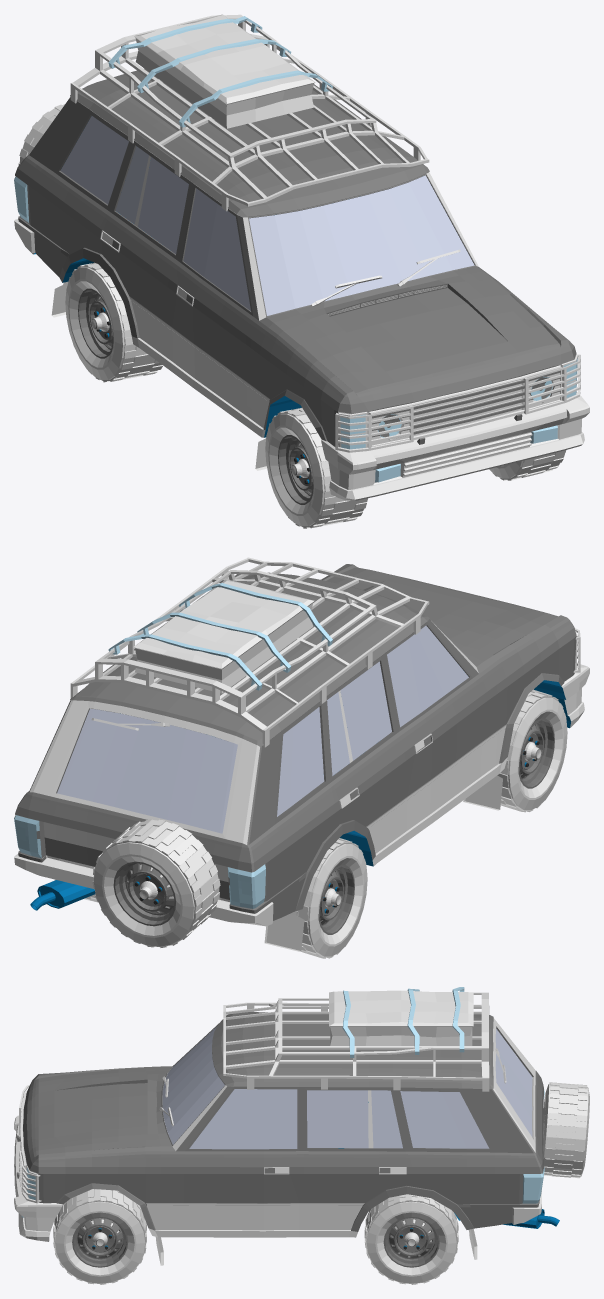
File: Range Rover.glb
The picture shows the model from 3 angles, top to bottom: view 1: azimuth 30°, elevation 25°; view 2: azimuth 150°, elevation 25°; view 3: azimuth 270°, elevation 25°; orthographic projection. The views are drawn at different scales.
Visible parts, largest first — view 1: Car.002, Bag, Car, Tire3, Tire4, Car.003, Car.001, Tire1, Spare Tire; view 2: Car.002, Bag, Car, Spare Tire, Tire3, Tire4, Car.010, Car.012, Car.011; view 3: Car.002, Bag, Car, Tire1, Tire2, Spare Tire, Car.001, Car.010.
Part boxes in pixels (x1,y1,x2,y2): Car.002: (14, 68, 589, 500); Bag: (108, 14, 332, 128); Car: (70, 14, 429, 211); Tire3: (265, 408, 367, 528); Tire4: (65, 262, 162, 382); Car.003: (335, 406, 413, 452); Car.001: (523, 354, 580, 414); Tire1: (489, 450, 566, 480); Spare Tire: (18, 104, 64, 165); Car.002: (14, 564, 589, 926); Bag: (108, 579, 332, 693); Car: (70, 557, 429, 747); Spare Tire: (92, 819, 220, 947); Tire3: (497, 689, 567, 812); Tire4: (296, 838, 367, 958); Car.010: (30, 880, 95, 910); Car.012: (264, 911, 304, 951); Car.011: (463, 775, 502, 810); Car.002: (14, 1012, 544, 1241); Bag: (329, 987, 473, 1057); Car: (223, 992, 489, 1091); Tire1: (53, 1189, 146, 1284); Tire2: (364, 1194, 458, 1284); Spare Tire: (543, 1082, 589, 1178); Car.001: (19, 1150, 41, 1203); Car.010: (503, 1209, 559, 1228).
Bounding box in the file's own units: 2.52 × 2.92 × 6.49.
2 materials, 1 textured.
